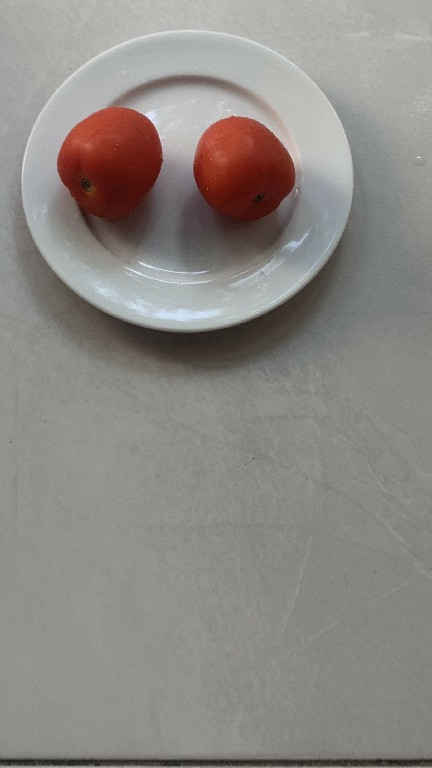OK: (192, 110, 296, 231), (60, 109, 167, 217)
